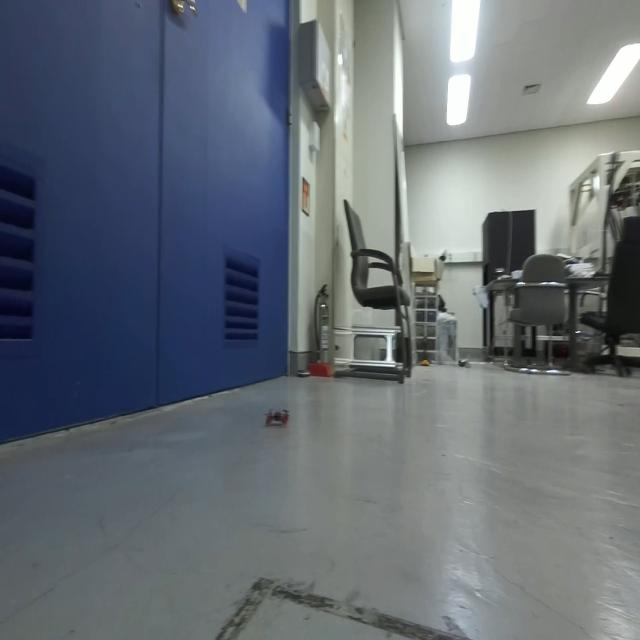crazyflie: (263, 402, 292, 433)
